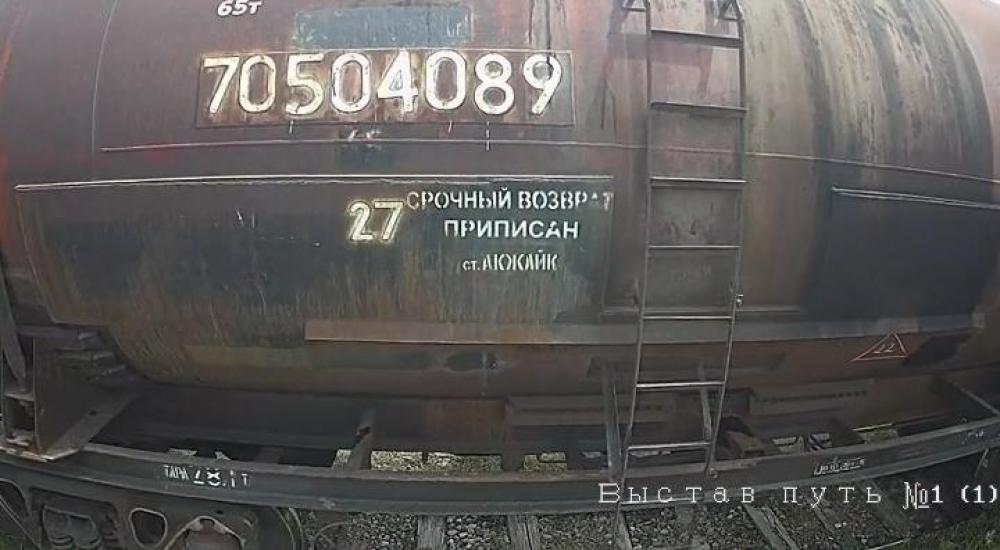Wagon-number: (201, 52, 563, 121)
